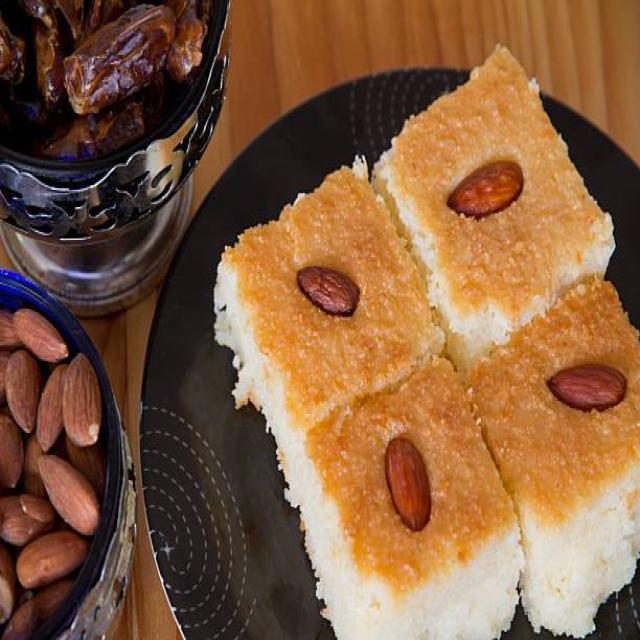pasposa: (209, 33, 639, 640)
